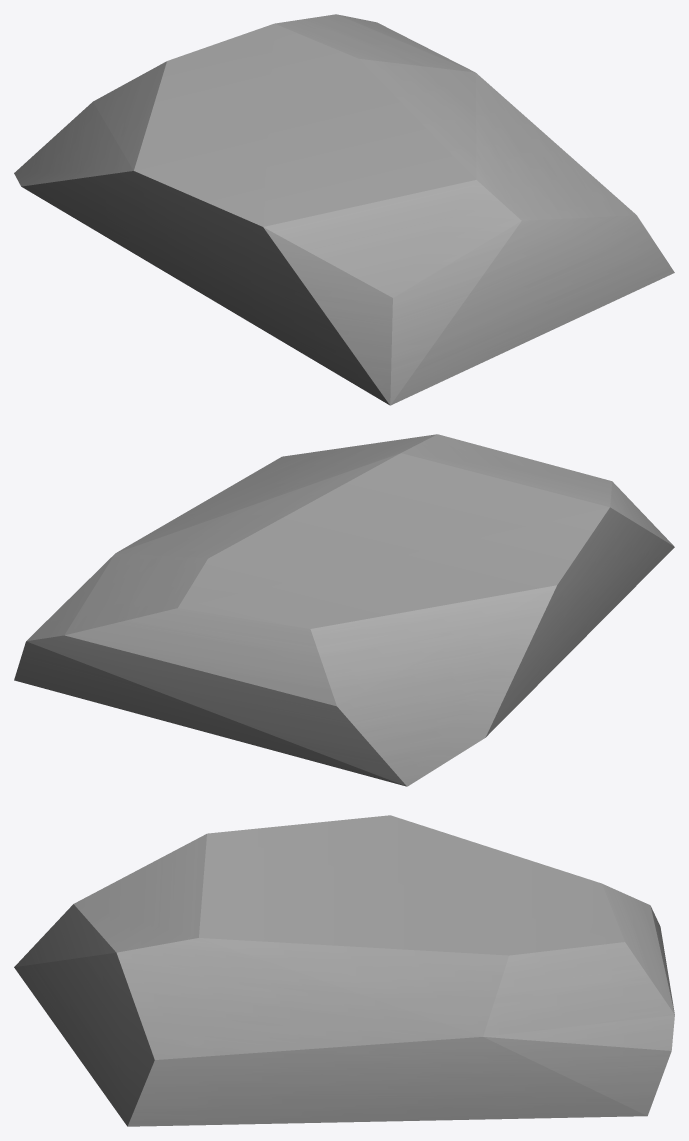
Rendered from SM_Exterior_PiedraCamino_03.fbx.
3 renders of one model, top to bottom at view 1: azimuth 30°, elevation 25°; view 2: azimuth 150°, elevation 25°; view 3: azimuth 270°, elevation 25°, orthographic.
Parts seen in each view (by area): view 1: SM_Exterior_PiedraCamino_03; view 2: SM_Exterior_PiedraCamino_03; view 3: SM_Exterior_PiedraCamino_03.
Part boxes in pixels (x1,y1,x2,y2): SM_Exterior_PiedraCamino_03: [14, 14, 674, 405]; SM_Exterior_PiedraCamino_03: [14, 434, 674, 786]; SM_Exterior_PiedraCamino_03: [14, 815, 674, 1126].
Bounding box in the file's own units: 203 × 52.45 × 266.
